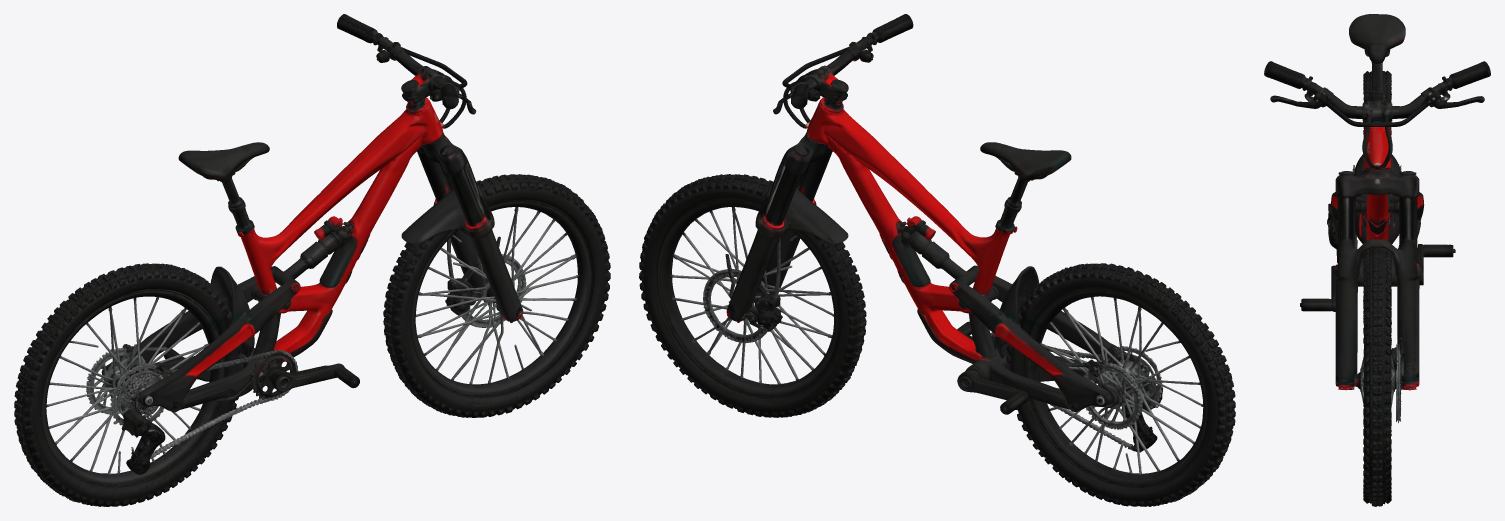
Rendered from bike.glb.
The picture shows the model from 3 angles, left to right: view 1: azimuth 30°, elevation 25°; view 2: azimuth 150°, elevation 25°; view 3: azimuth 270°, elevation 25°; orthographic projection.
Visible parts, largest first — view 1: tripo_node_1ca4d41a-e11e-4caf-b65d-8fae8d700a4c; view 2: tripo_node_1ca4d41a-e11e-4caf-b65d-8fae8d700a4c; view 3: tripo_node_1ca4d41a-e11e-4caf-b65d-8fae8d700a4c.
Part boxes in pixels (left/top/right/bottom): tripo_node_1ca4d41a-e11e-4caf-b65d-8fae8d700a4c: left=14, top=14, right=610, bottom=506; tripo_node_1ca4d41a-e11e-4caf-b65d-8fae8d700a4c: left=639, top=14, right=1235, bottom=506; tripo_node_1ca4d41a-e11e-4caf-b65d-8fae8d700a4c: left=1264, top=14, right=1490, bottom=506.
Bounding box in the file's own units: 0.9802 × 0.6079 × 0.325.
1 material, 1 textured.
